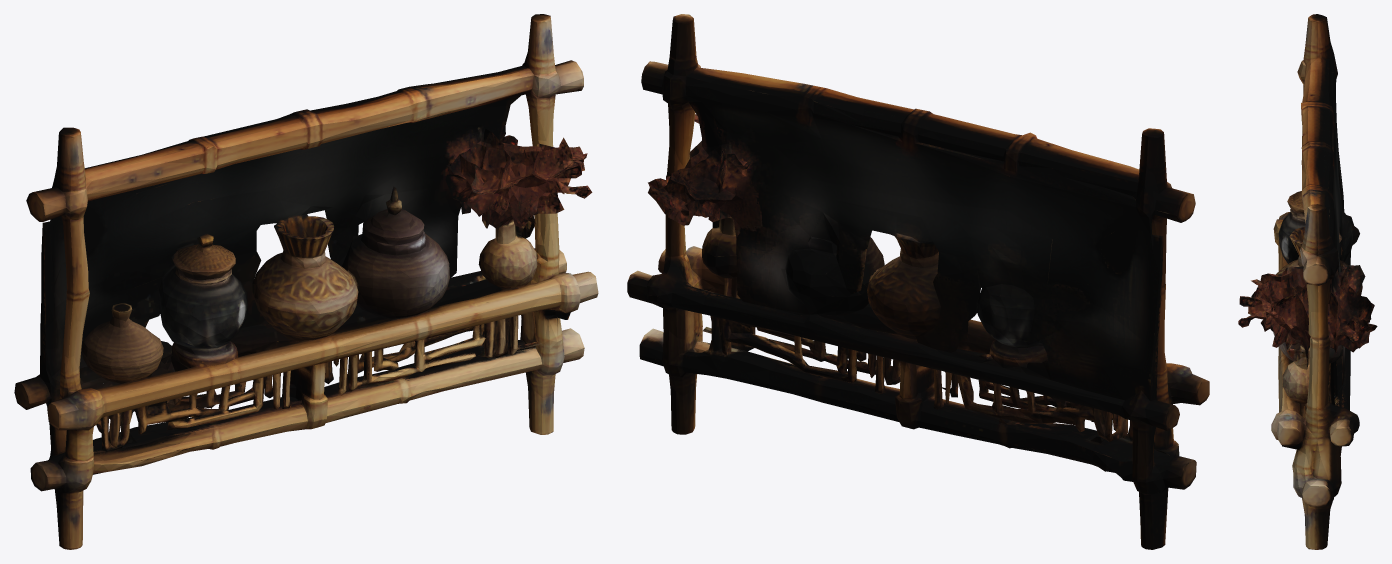
Rendered from bamboo-wall-shelf-vintage.jpeg.glb.
3 views of the same model, side by side, from view 1: azimuth 30°, elevation 25°; view 2: azimuth 150°, elevation 25°; view 3: azimuth 270°, elevation 25° (orthographic). The views are drawn at different scales.
Visible parts, largest first — view 1: world; view 2: world; view 3: world.
Part boxes in pixels (x1,y1,x2,y2): world: (14, 14, 598, 549); world: (627, 14, 1209, 549); world: (1238, 14, 1377, 549).
Bounding box in the file's own units: 1 × 0.7325 × 0.2717.
Materials: 1 (1 with a texture image).
